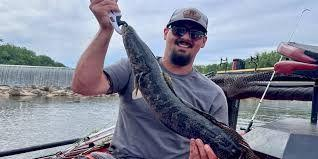Snakehead: (111, 20, 253, 159)
